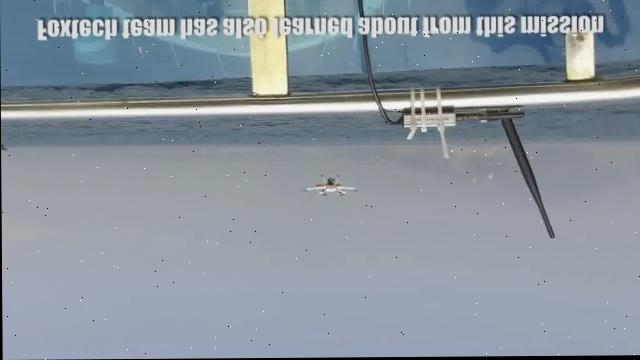drone: (300, 174, 357, 200)
